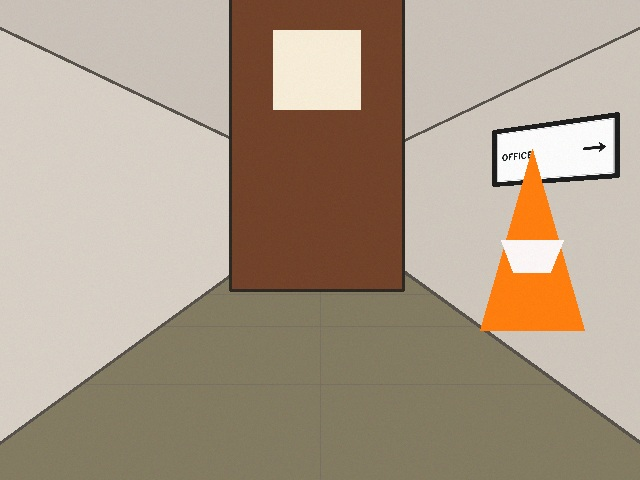directional_sign: (493, 113, 618, 185)
door: (230, 0, 403, 290)
obstacle: (480, 149, 584, 330)
